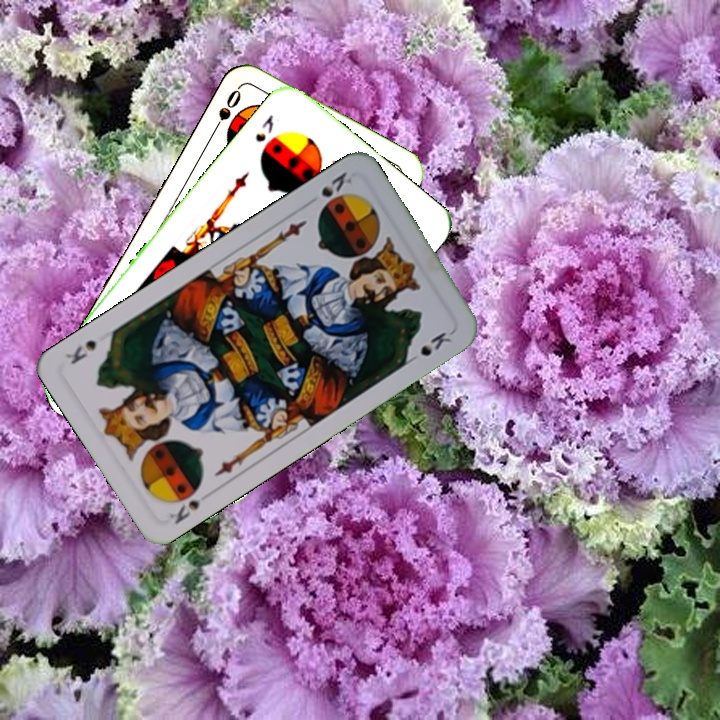SK: (165, 487, 214, 527), (317, 168, 355, 200), (251, 110, 277, 145)
SO: (207, 84, 244, 138)
